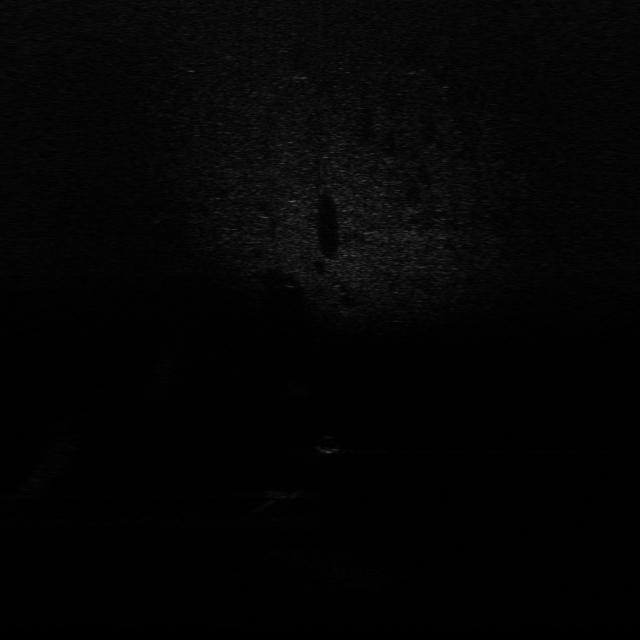ball: (316, 434, 348, 454)
square cage: (256, 486, 314, 502)
